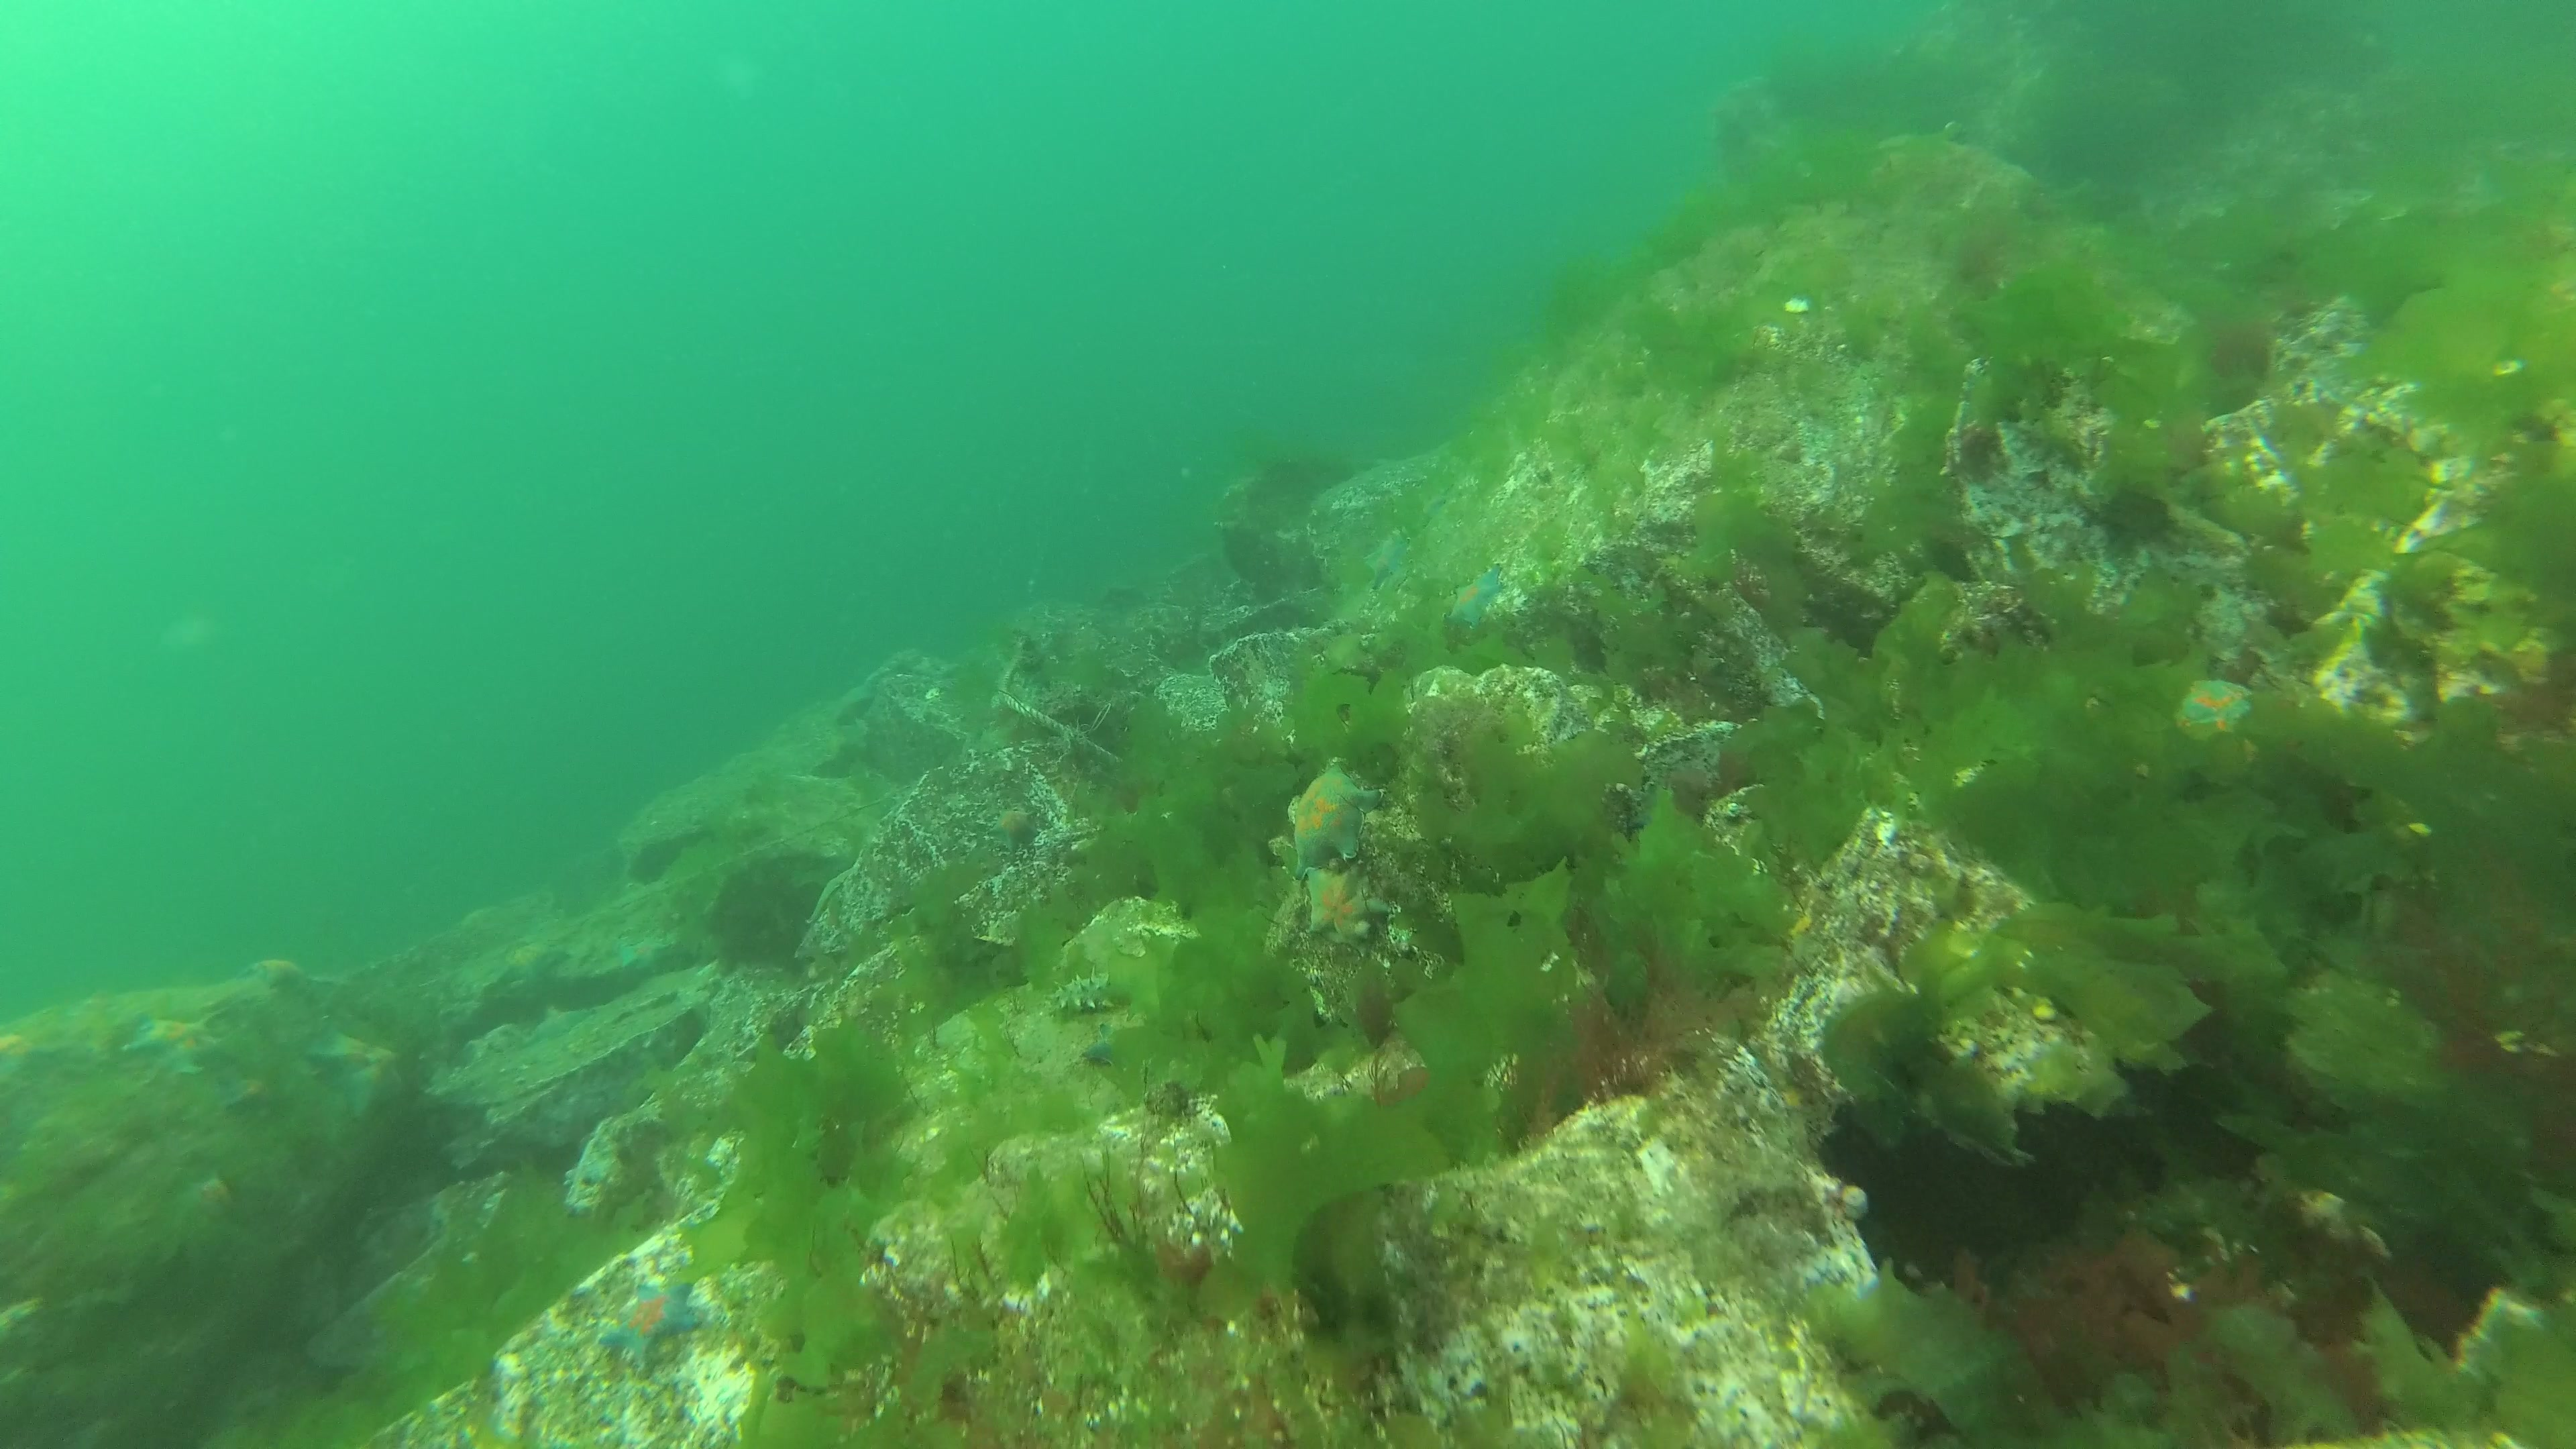holothurian: (1044, 964, 1131, 1021)
starfish: (602, 1272, 706, 1373), (1293, 763, 1387, 874), (308, 1028, 410, 1118), (1302, 863, 1392, 954), (122, 1010, 232, 1077), (1444, 564, 1504, 628), (492, 941, 570, 987), (1076, 1019, 1138, 1069), (237, 955, 315, 993), (985, 805, 1042, 855), (1364, 536, 1410, 589), (619, 938, 672, 977), (191, 1169, 235, 1214), (228, 1077, 274, 1109)
